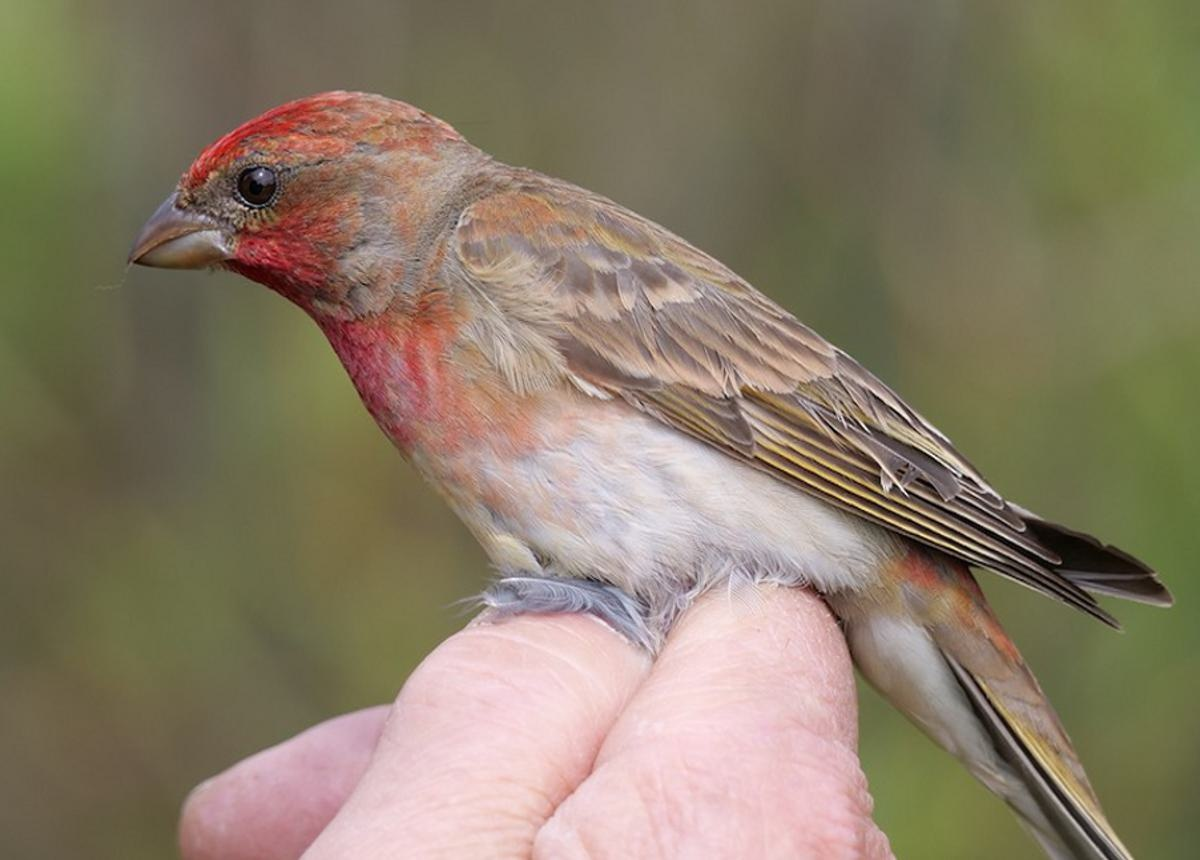rosefinch: (147, 90, 1065, 760)
